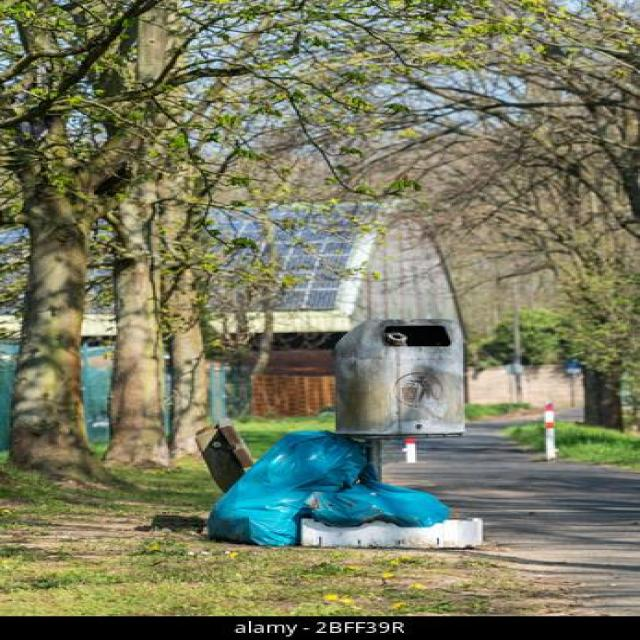metal: (332, 315, 498, 435)
trash: (179, 428, 444, 565)
